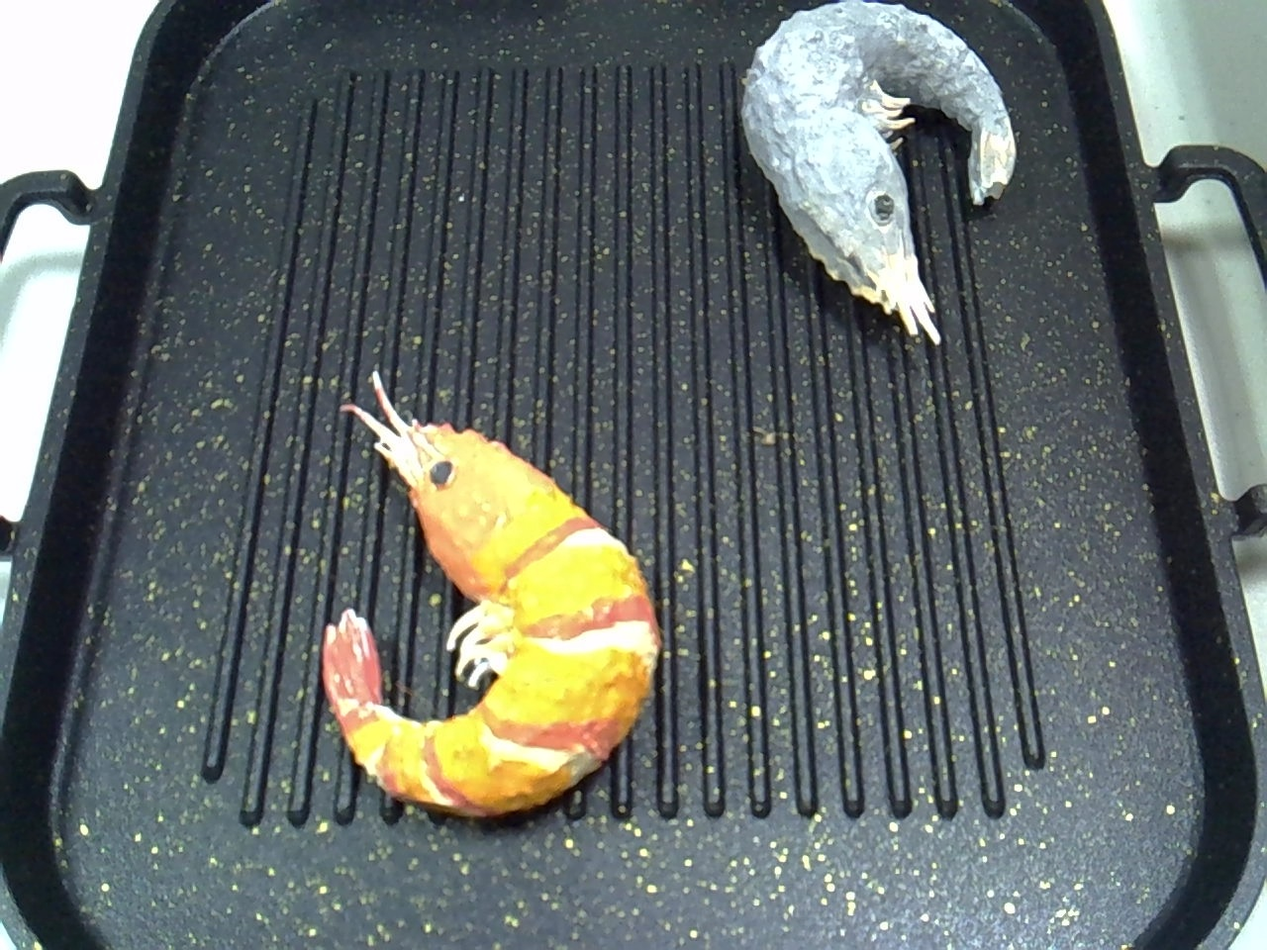shrimp_cooked: (281, 345, 674, 851)
shrimp_raw: (730, 0, 1065, 373)
